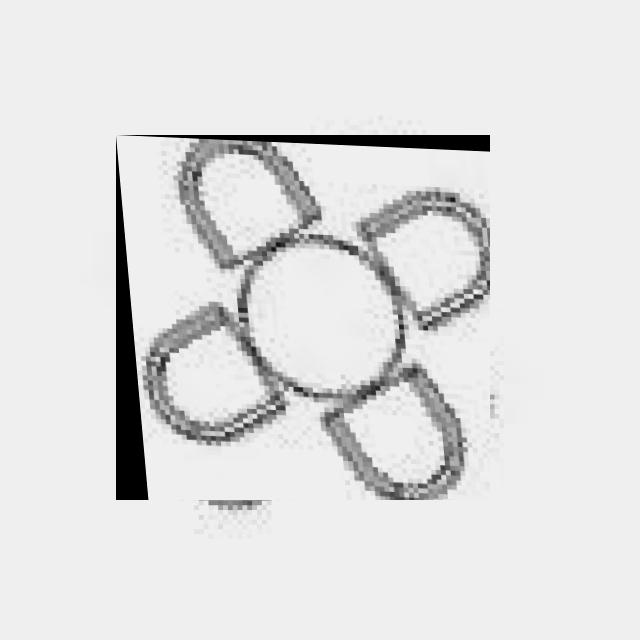table: (116, 135, 490, 500)
